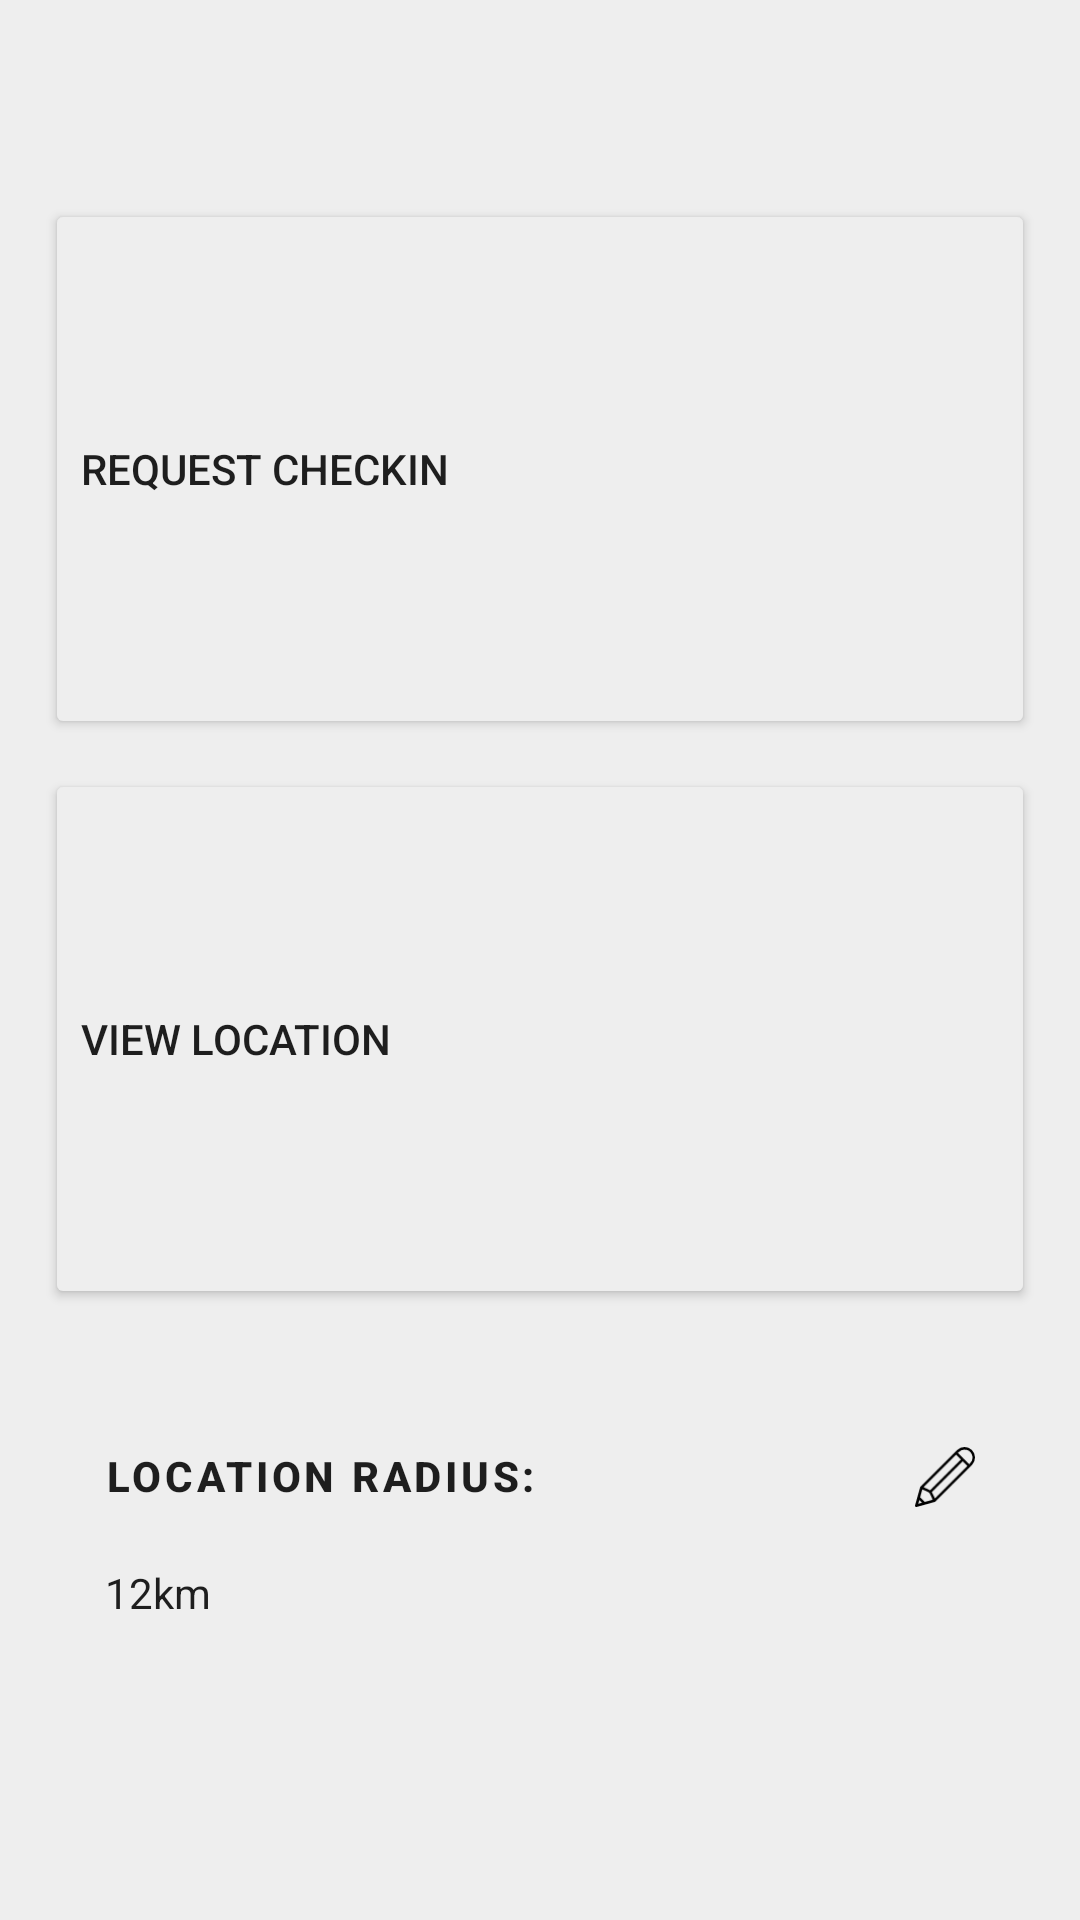

Screen size 1080w x 1920h. Icon name, then its box in pixels as (x1, y1, x2, y2):
edit text: (915, 1447, 975, 1507)
